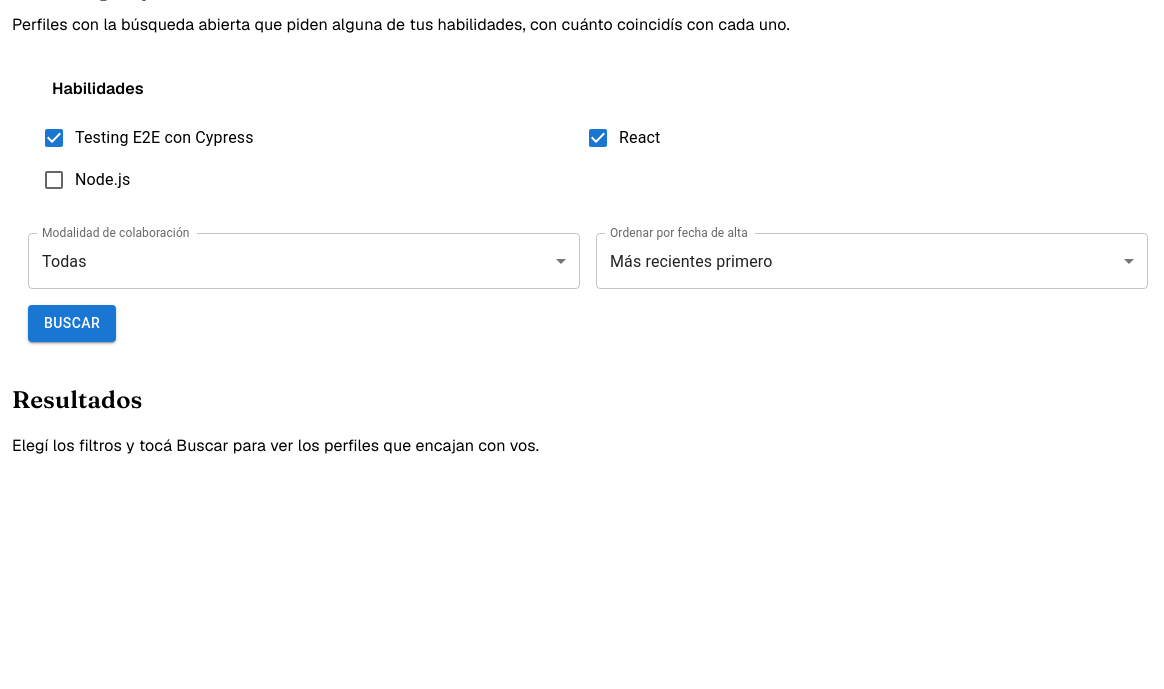
Test: Buscar proyectos, de la pantalla al pedido HTTP › busca con las habilidades de quien tiene la sesión y muestra lo que respondió el backend
Check: the checkbox labelled "Testing E2E con Cypress" is checked, box [42, 126, 254, 150]
Check: the checkbox labelled "React" is checked, box [586, 126, 660, 150]
Click the button "Buscar" at (72, 323), box [28, 305, 116, 342]
(page scrolled)
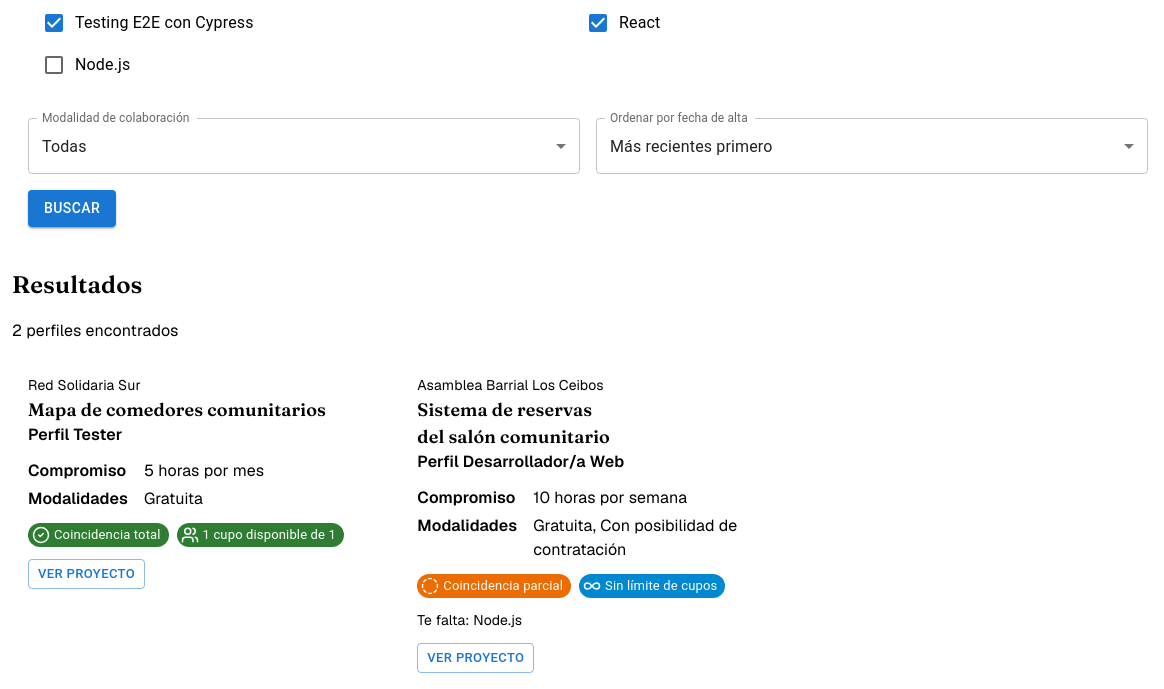
Check: the text "Red Solidaria Sur" is shown, box [28, 376, 141, 394]
Check: the text "5 horas por mes" is shown, box [144, 460, 264, 480]
Check: the text "Coincidencia total" is shown, box [46, 525, 169, 544]
